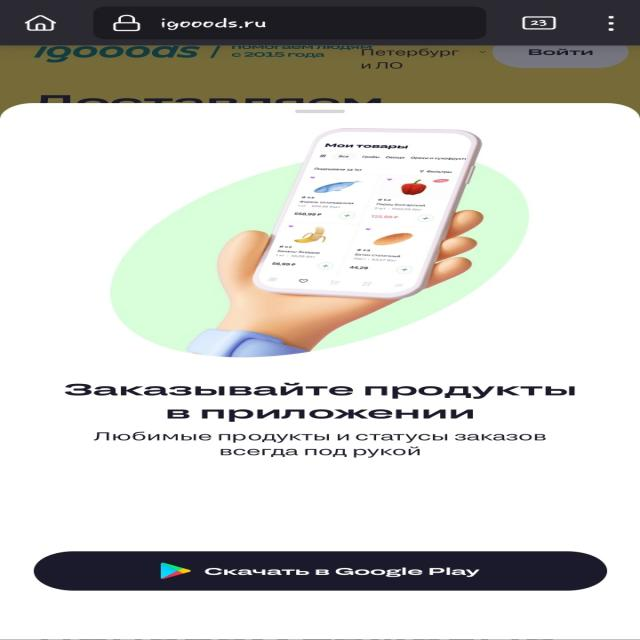button: (32, 550, 608, 592)
site: (0, 102, 640, 640)
